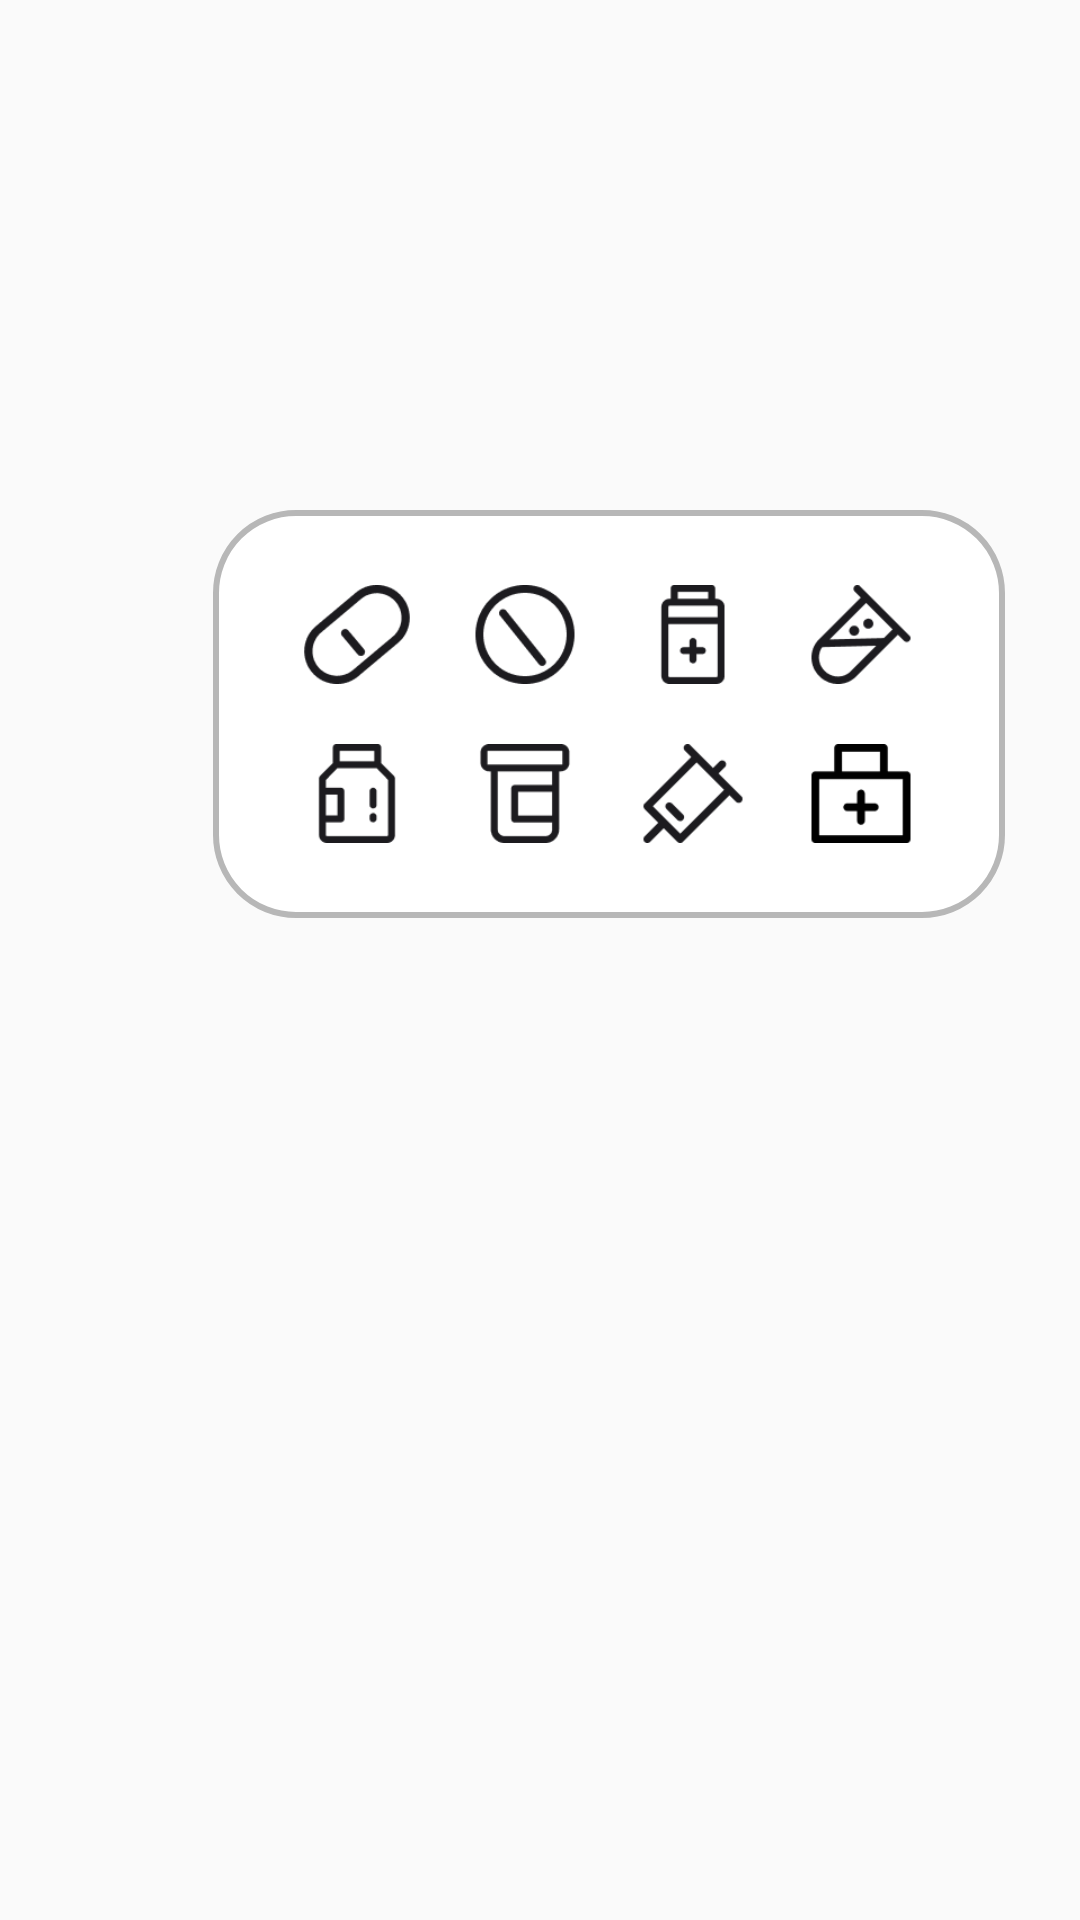

Where icons sit on this 1080 × 1920 app screen, as (x1, y1, x2, y2):
size drugs: (304, 585, 410, 684), (475, 585, 575, 684), (661, 585, 725, 684), (811, 585, 911, 684), (318, 744, 396, 843), (480, 744, 570, 843), (643, 744, 743, 843), (811, 744, 911, 843)
